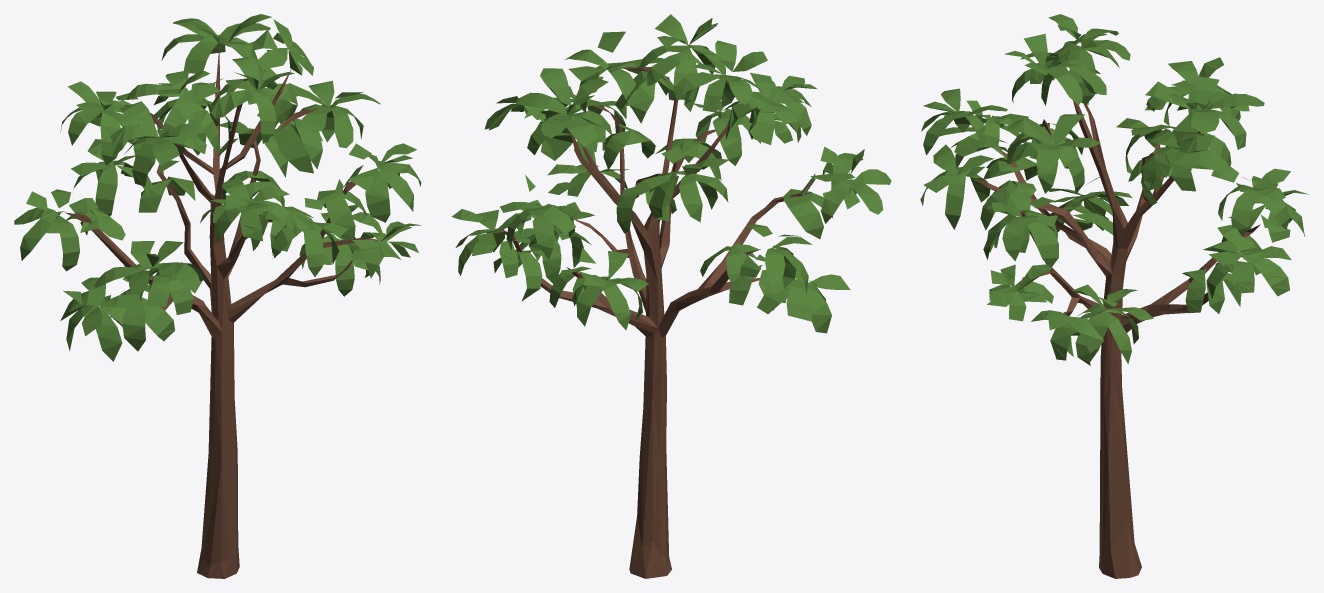
Rendered from Teak.glb.
3 renders of one model, left to right at view 1: azimuth 30°, elevation 25°; view 2: azimuth 150°, elevation 25°; view 3: azimuth 270°, elevation 25°, orthographic. The views are drawn at different scales.
Visible parts, largest first — view 1: Teak; view 2: Teak; view 3: Teak.
Boxes of the visible parts, left/top/right/bottom form: Teak: left=14, top=14, right=421, bottom=578; Teak: left=451, top=14, right=891, bottom=578; Teak: left=920, top=14, right=1308, bottom=578.
Bounding box in the file's own units: 20.67 × 32 × 21.51.
